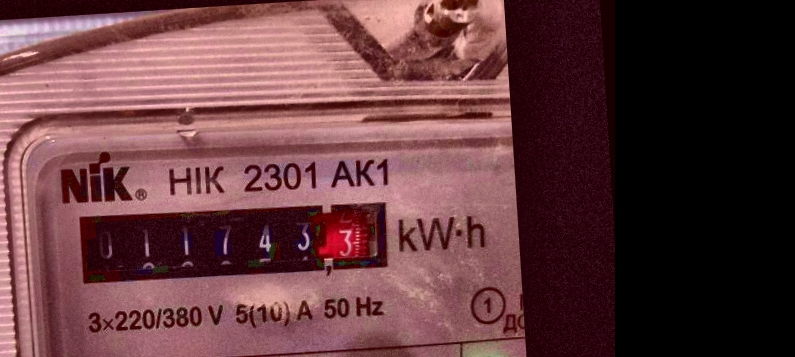0: (93, 226, 114, 263)
1: (176, 222, 193, 256), (139, 224, 151, 258)
3: (290, 217, 311, 253), (335, 226, 355, 260)
4: (253, 220, 272, 255)
7: (214, 221, 234, 256)
screen: (63, 185, 402, 299)
